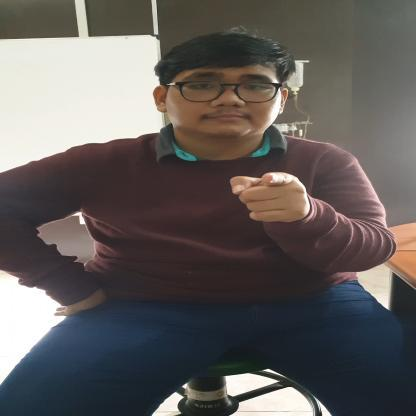Kamu: (226, 170, 326, 232)
